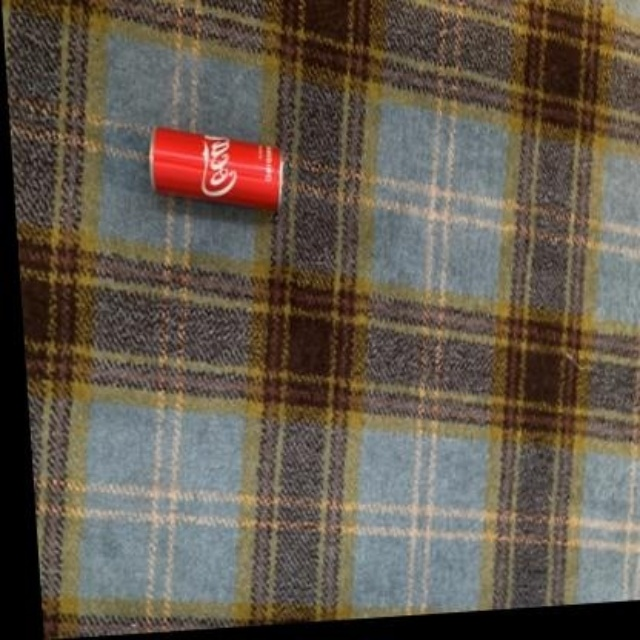trash: (149, 126, 282, 209)
